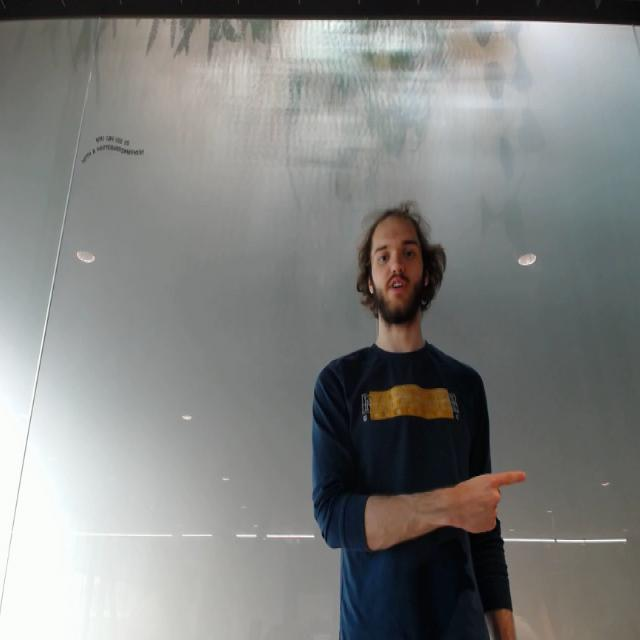right: (442, 465, 532, 540)
